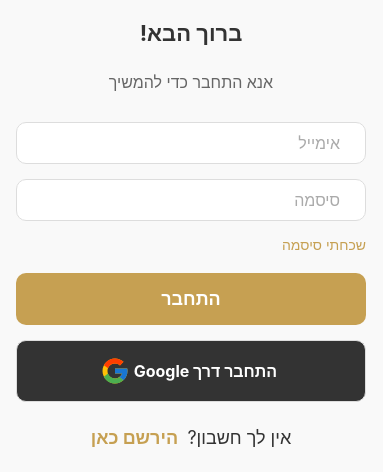
it: SignIn פונקציונליות ומקרי קצה › מציג הודעת שגיאה כשסיסמה ריקה
Type "test@example.com" into the field with placeholder "אימייל" at point(191, 142), box [32,122,350,162]
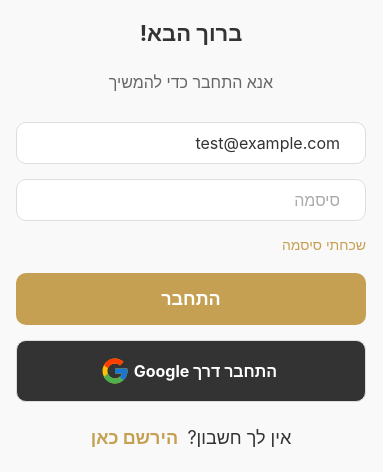
Click the text "התחבר" at point(191, 298), box [161,288,221,310]
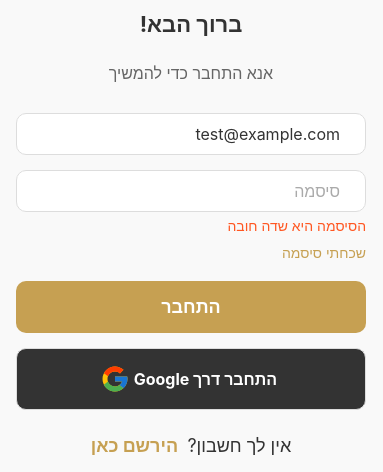
Expected: the text "הסיסמה היא שדה חובה" is shown, [227,217,366,234]
